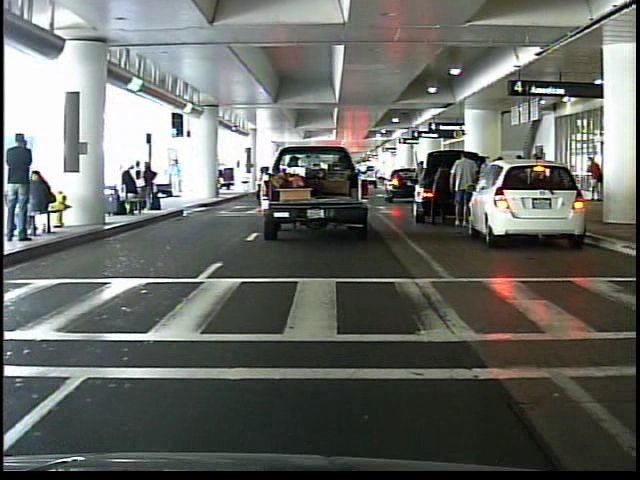person: (6, 133, 40, 247), (450, 148, 478, 231), (427, 158, 457, 230), (582, 154, 607, 205), (411, 157, 430, 213), (169, 158, 186, 200)
